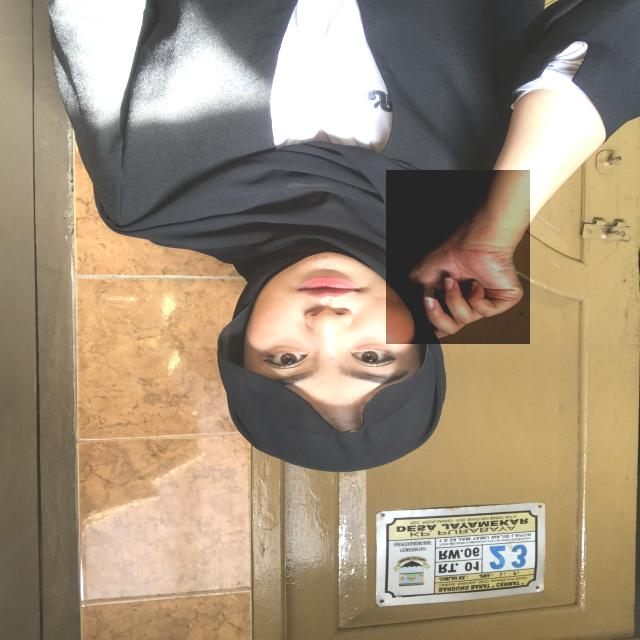ibu: (386, 170, 530, 343)
